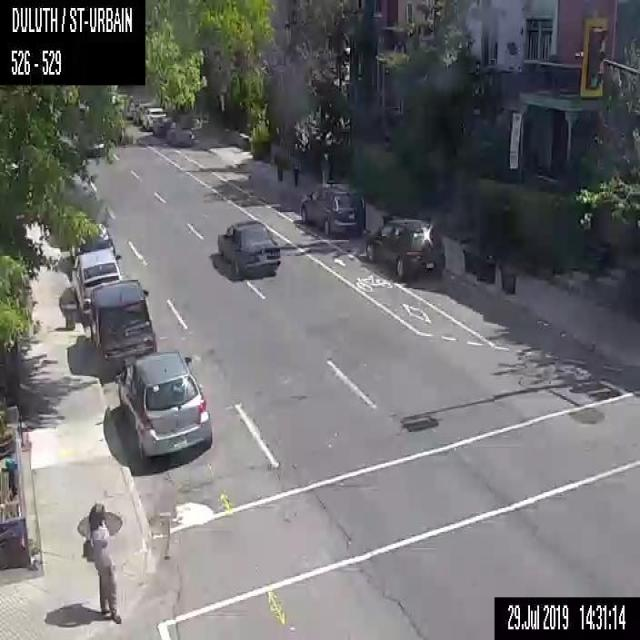pedestrian: (84, 499, 122, 625), (288, 139, 305, 185), (274, 138, 284, 182), (319, 149, 329, 187)
vehicle: (120, 348, 212, 461), (90, 278, 156, 361), (364, 216, 444, 280), (216, 219, 280, 277), (298, 184, 362, 236), (73, 246, 121, 315), (72, 224, 114, 260), (164, 122, 196, 145), (142, 105, 166, 130), (152, 114, 172, 136)
